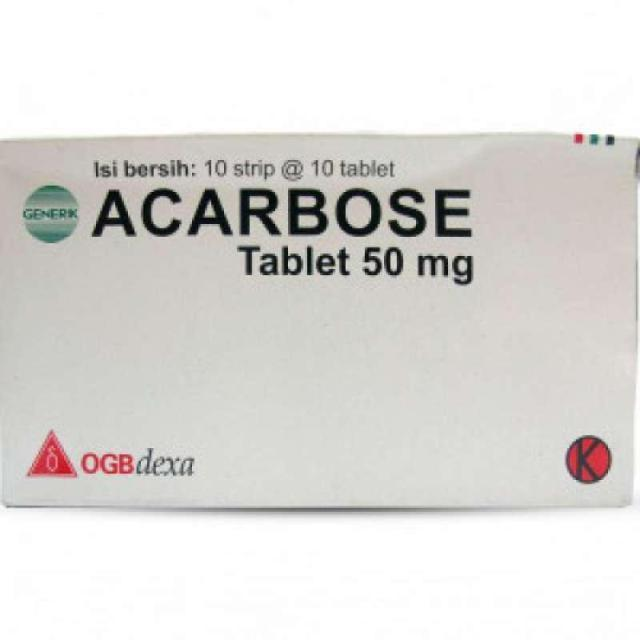drug-name: (90, 182, 482, 240)
